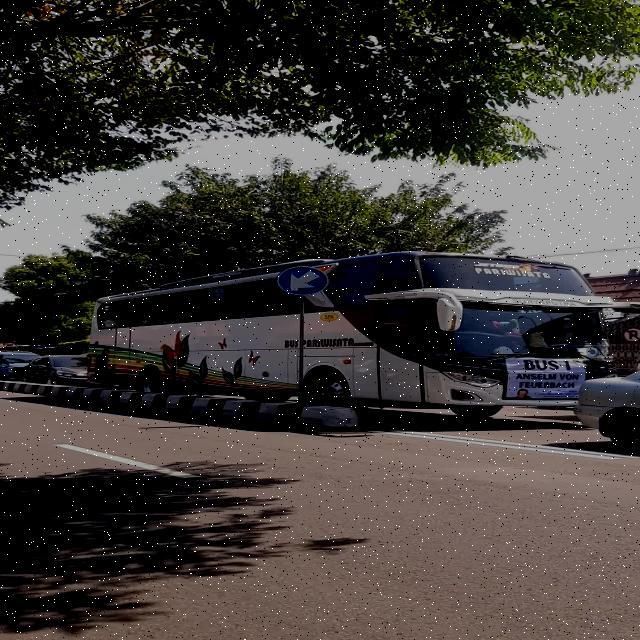Lajur Kiri: (276, 266, 330, 296)
